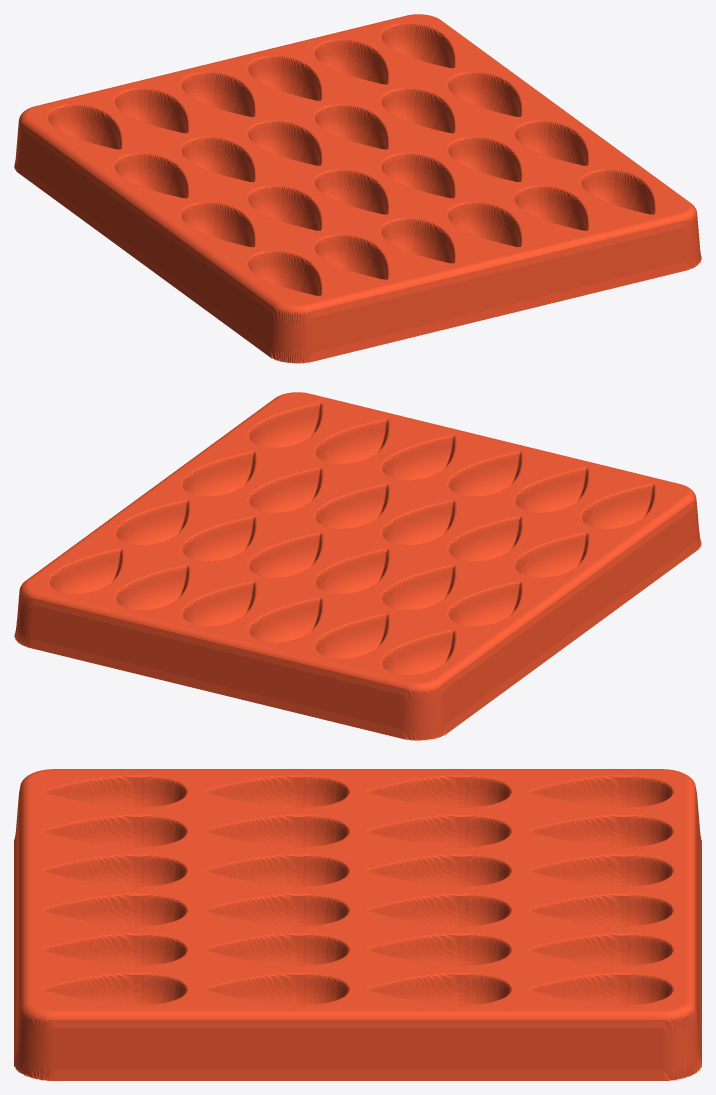
File: mold.glb
The picture shows the model from 3 angles, top to bottom: view 1: azimuth 30°, elevation 25°; view 2: azimuth 150°, elevation 25°; view 3: azimuth 270°, elevation 25°; orthographic projection. The views are drawn at different scales.
Parts seen in each view (by area): view 1: geometry_0; view 2: geometry_0; view 3: geometry_0.
Boxes of the visible parts, x1=… form: geometry_0: x1=14, y1=14, x2=701, y2=363; geometry_0: x1=14, y1=392, x2=701, y2=740; geometry_0: x1=14, y1=769, x2=701, y2=1080.
Size of the model in its own units: 0.1364 by 0.0159 by 0.1561.
